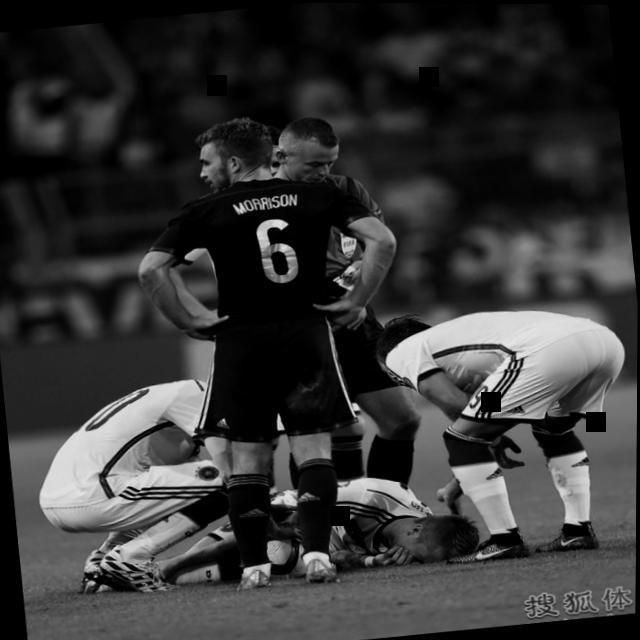Fall-Detected: (119, 449, 489, 605)
